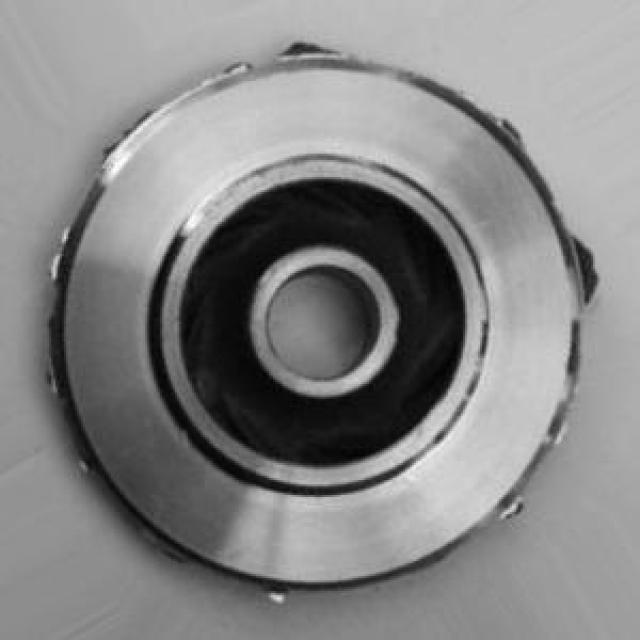Defect: (562, 234, 614, 300)
